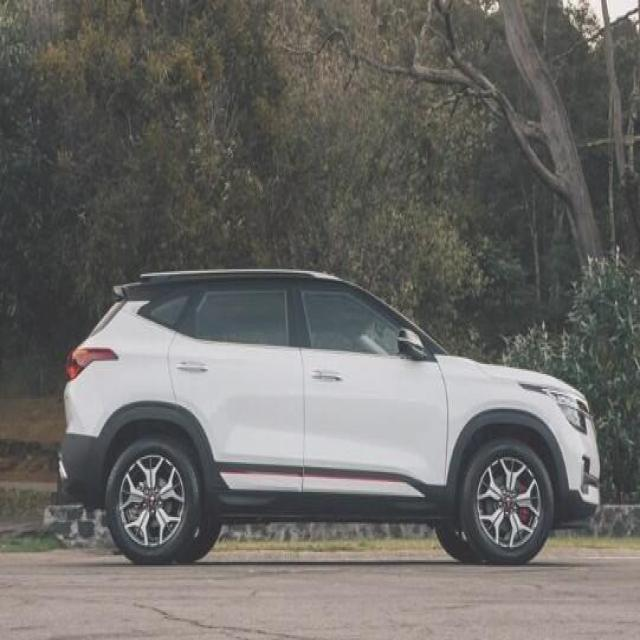SUV: (54, 262, 617, 568)
